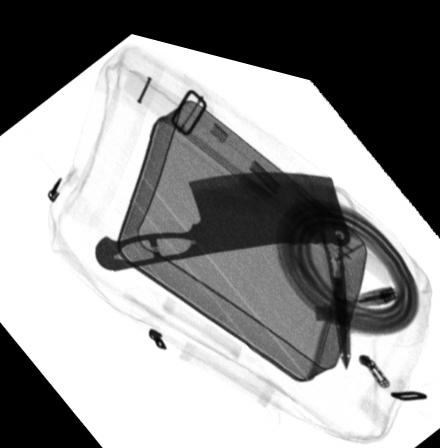Knife: (93, 158, 351, 265)
Scissors: (287, 157, 357, 353)
